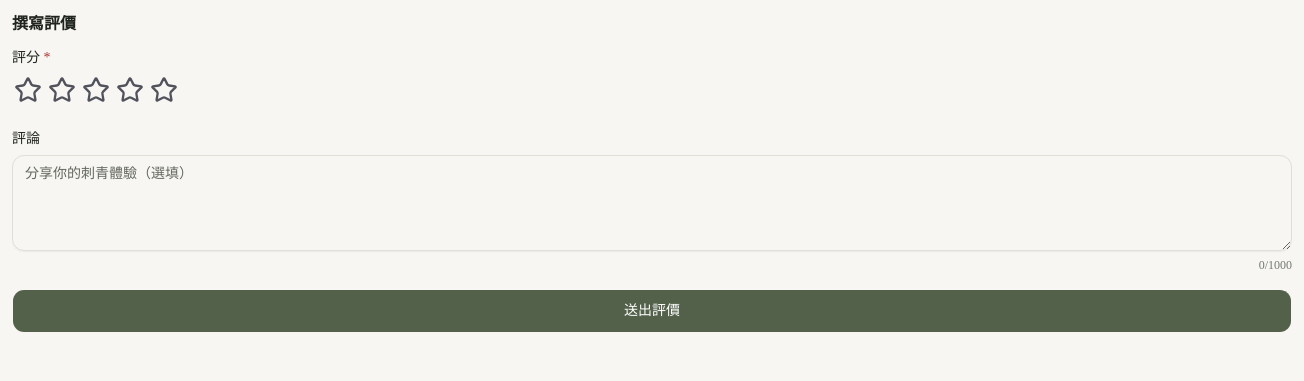
Scenario: ArtistReviewFormSection › surfaces an error (does not crash) when the route returns 409 duplicate
The width and height of the screenshot is (1304, 381).
Click the radio button named "5 顆星": coordinates (164, 90) x1=148 y1=74 x2=180 y2=106
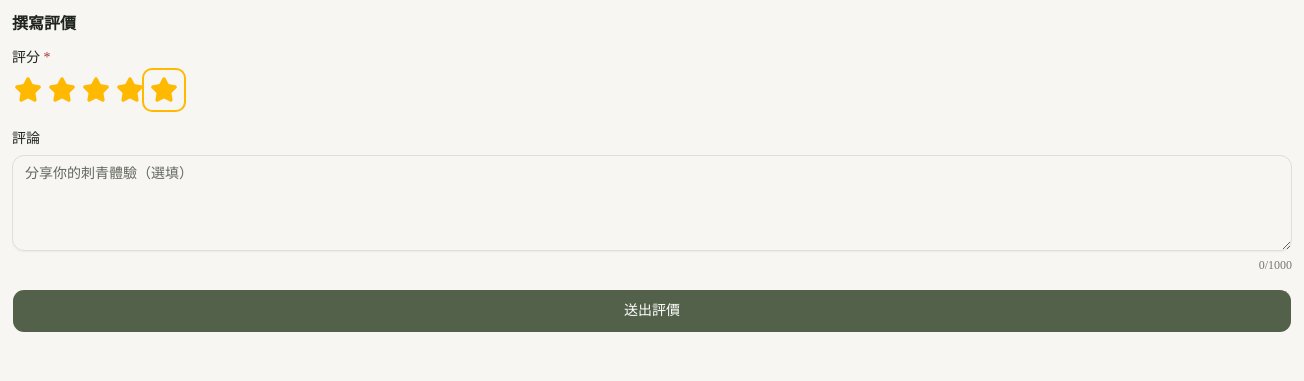
Click the button "送出評價": coordinates (652, 311) x1=12 y1=289 x2=1292 y2=333
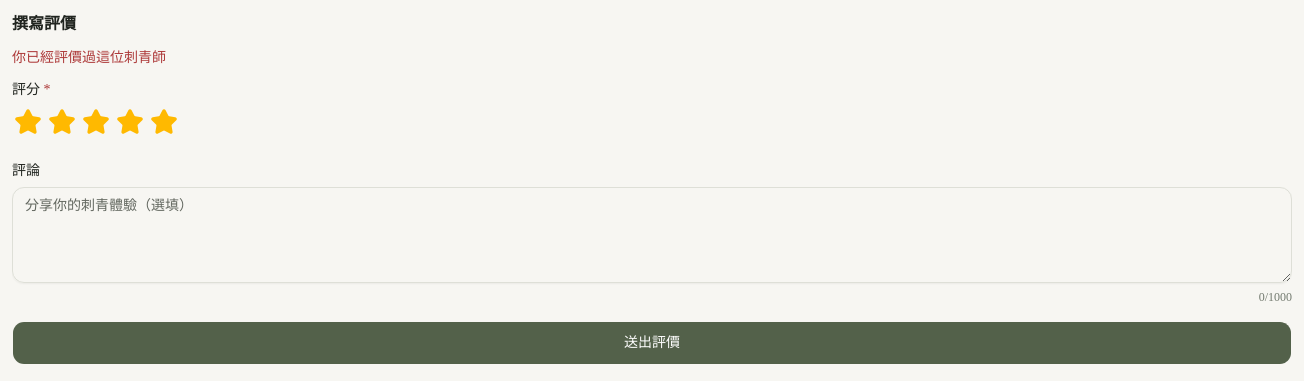
Result: the text "你已經評價過這位刺青師" is shown at x1=12 y1=50 x2=166 y2=65
